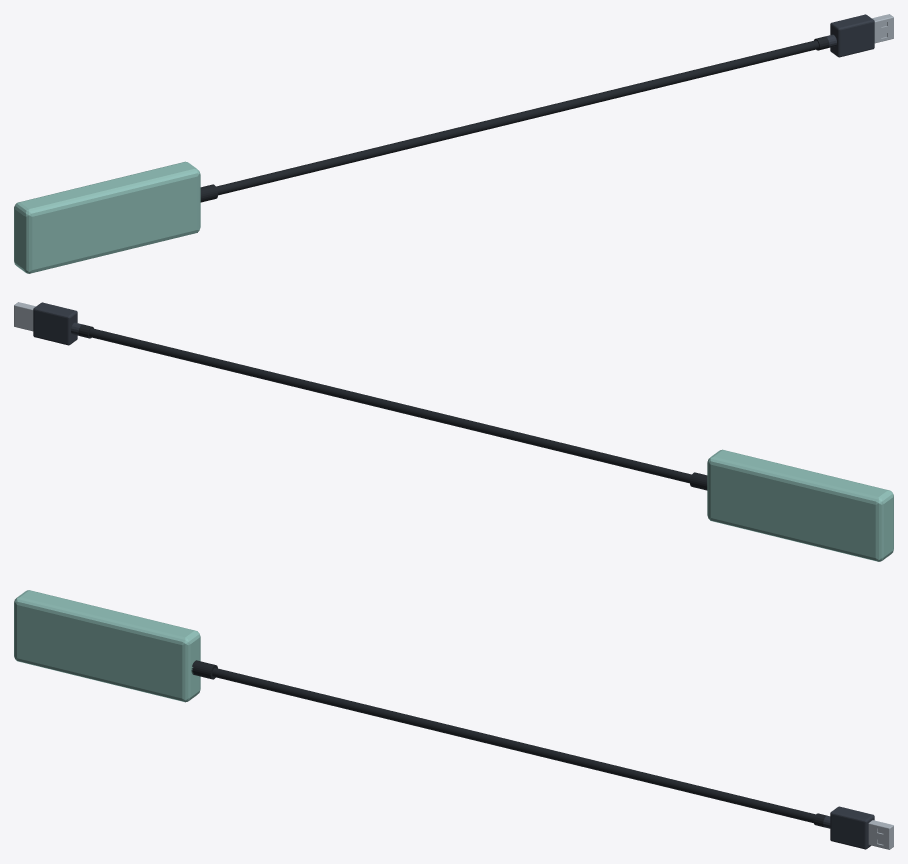
3 views of the same model, one above another, from view 1: azimuth 30°, elevation 25°; view 2: azimuth 150°, elevation 25°; view 3: azimuth 330°, elevation 25° (orthographic).
Parts seen in each view (by area): view 1: geometry_0; view 2: geometry_0; view 3: geometry_0.
Boxes of the visible parts, left/top/right/bottom form: geometry_0: left=14, top=14, right=893, bottom=273; geometry_0: left=14, top=302, right=893, bottom=561; geometry_0: left=14, top=590, right=893, bottom=849.
Size of the model in its own units: 0.4965 by 0.035 by 0.015.
Materials: 1 (1 with a texture image).
